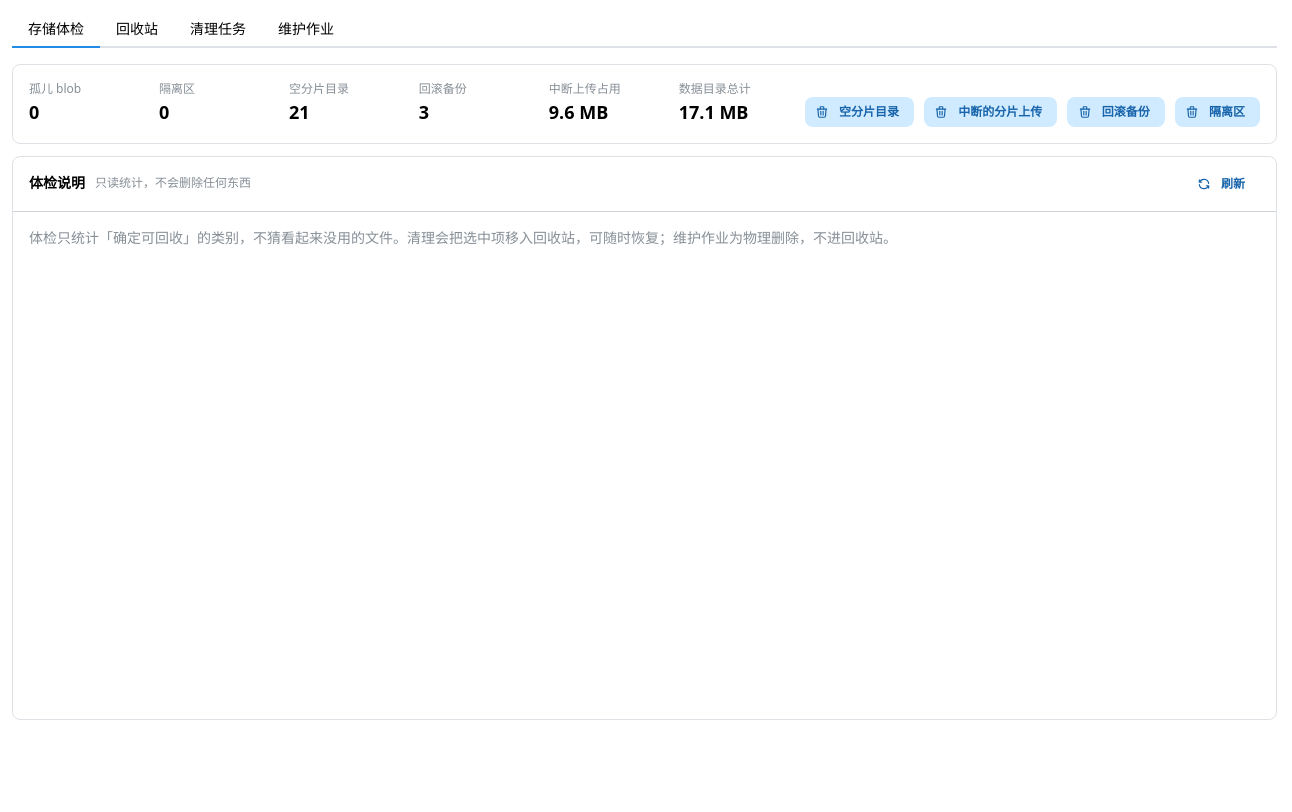
Scenario: 维护与清理页：固定布局与 Tab › 切换到回收站 Tab 才加载回收站内容
Click the tab "回收站" at point(137, 30), box [100, 12, 174, 48]
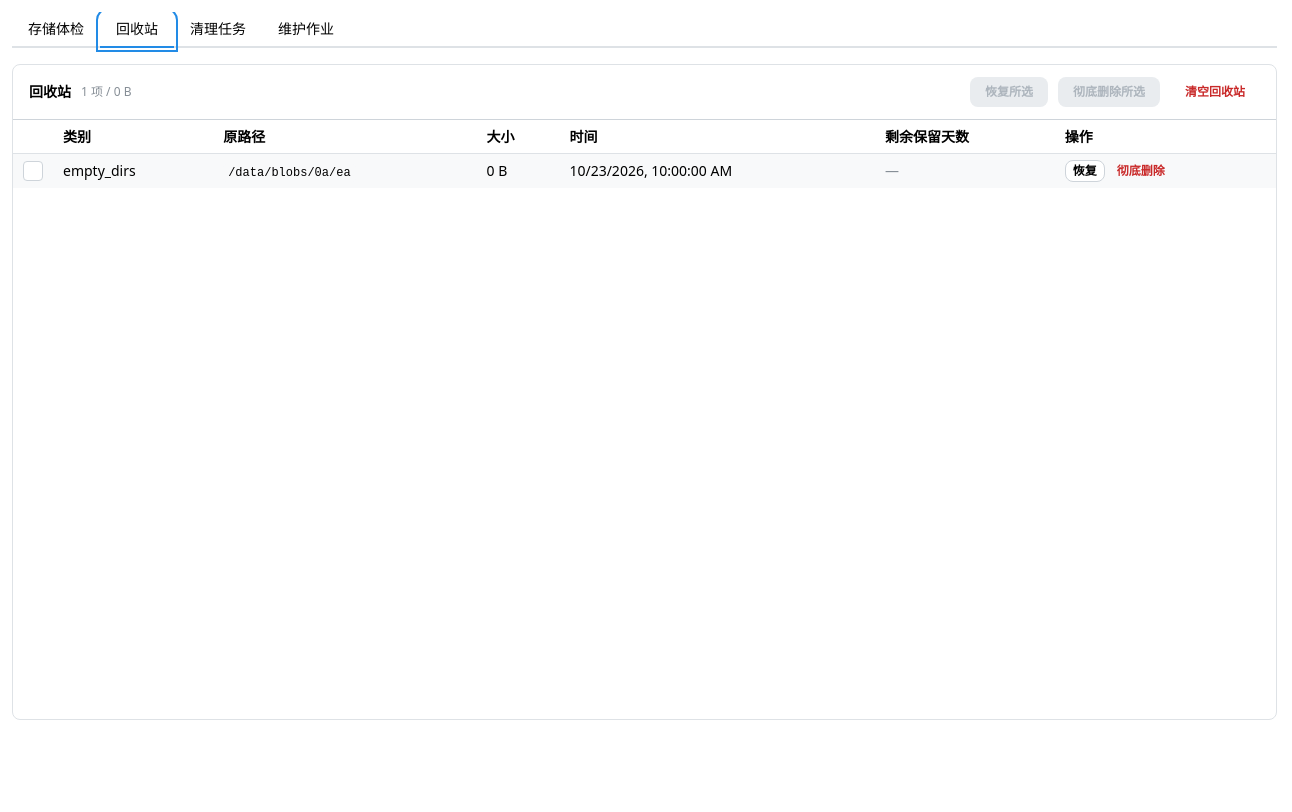
Now the text "/data/blobs/0a/ea" is shown, box [223, 164, 356, 182]
